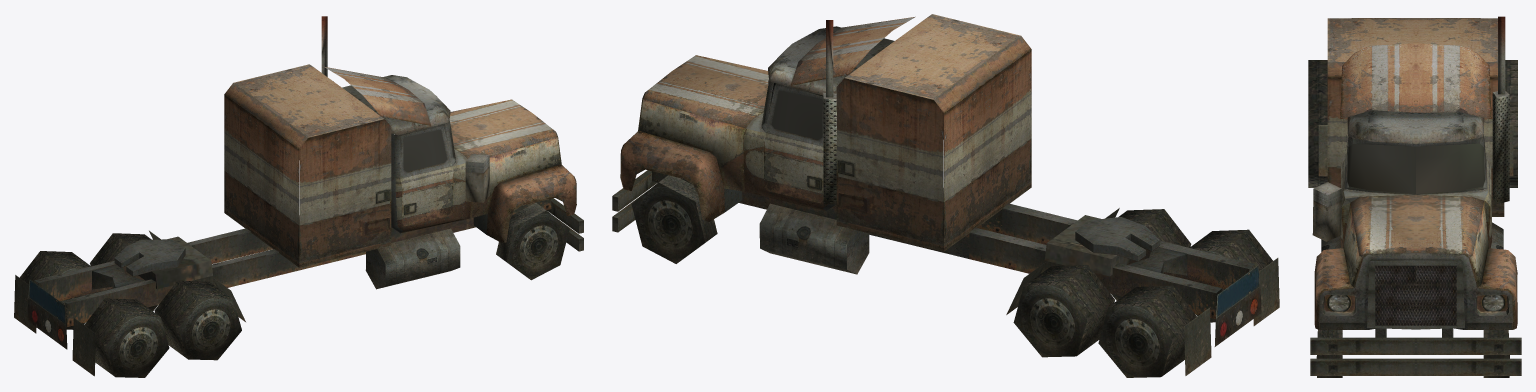
Rendered from Cover_Truck02_lod2.glb.
3 views of the same model, side by side, from view 1: azimuth 30°, elevation 25°; view 2: azimuth 150°, elevation 25°; view 3: azimuth 270°, elevation 25° (orthographic). The views are drawn at different scales.
Visible parts, largest first — view 1: xiutz_truck_02_lod2; view 2: xiutz_truck_02_lod2; view 3: xiutz_truck_02_lod2.
Part boxes in pixels (x1,y1,x2,y2): xiutz_truck_02_lod2: (14, 16, 583, 377); xiutz_truck_02_lod2: (612, 14, 1279, 377); xiutz_truck_02_lod2: (1308, 16, 1521, 377).
Size of the model in its own units: 13.76 by 6.38 by 4.39.
Materials: 1 (1 with a texture image).
